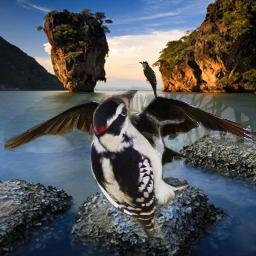Crow: (4, 94, 254, 181)
Cuckoo: (139, 61, 158, 99)
Woodpecker: (91, 90, 189, 241)
